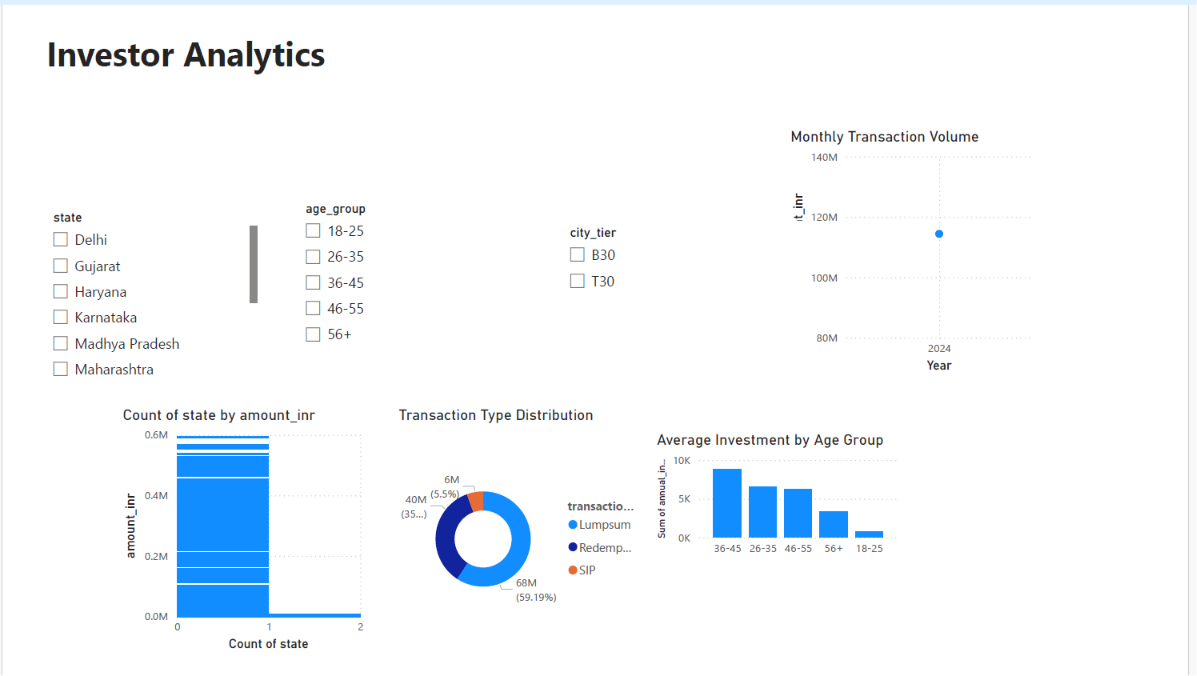

This screenshot's page, from the dashboard's own definition file:
{"tool":"powerbi","page":{"name":"Investor Analytics","canvas":[1280,720],"ordinal":2},"visuals":[{"type":"clusteredBarChart","fields":{"Y":["CountNonNull(08_investor_transactions.state)"],"Category":["08_investor_transactions.amount_inr"]},"box":[106.2,425,280,280],"z":0},{"type":"donutChart","title":"Transaction Type Distribution","fields":{"Category":["08_investor_transactions.transaction_type"],"Y":["Sum(08_investor_transactions.amount_inr)"]},"box":[415,425,280,280],"z":1000},{"type":"clusteredColumnChart","title":"Average Investment by Age Group","fields":{"Category":["08_investor_transactions.age_group"],"Y":["Sum(08_investor_transactions.annual_income_lakh)"]},"box":[703.8,452.5,280,150],"z":2000},{"type":"lineChart","title":"Monthly Transaction Volume","fields":{"Category":["08_investor_transactions.transaction_date.Variation.Date Hierarchy.Year","08_investor_transactions.transaction_date.Variation.Date Hierarchy.Quarter","08_investor_transactions.transaction_date.Variation.Date Hierarchy.Month","08_investor_transactions.transaction_date.Variation.Date Hierarchy.Day"],"Y":["Sum(08_investor_transactions.amount_inr)"]},"box":[853.8,112.5,280,280],"z":3000},{"type":"slicer","fields":{"Values":["08_investor_transactions.state"]},"box":[20,201.2,246.2,201.2],"z":4000},{"type":"slicer","fields":{"Values":["08_investor_transactions.city_tier"]},"box":[598.8,217.5,280,150],"z":5000},{"type":"slicer","fields":{"Values":["08_investor_transactions.age_group"]},"box":[302.5,191.2,252.5,201.2],"z":6000},{"type":"textbox","box":[20,0,418.8,201.2],"z":6001}]}

Visuals, with their boxes in screenshot pixels (x1, y1, x2, y2), scaled from the page's 1280x720 canvas onto the 1197x676 screenshot:
clusteredBarChart - CountNonNull(08_investor_transactions.state) x 08_investor_transactions.amount_inr: bbox(99, 399, 361, 662)
"Transaction Type Distribution" donutChart: bbox(388, 399, 650, 662)
"Average Investment by Age Group" clusteredColumnChart: bbox(658, 425, 920, 566)
"Monthly Transaction Volume" lineChart: bbox(798, 106, 1060, 369)
slicer - 08_investor_transactions.state: bbox(19, 189, 249, 378)
slicer - 08_investor_transactions.city_tier: bbox(560, 204, 822, 345)
slicer - 08_investor_transactions.age_group: bbox(283, 180, 519, 368)
textbox: bbox(19, 0, 410, 189)
